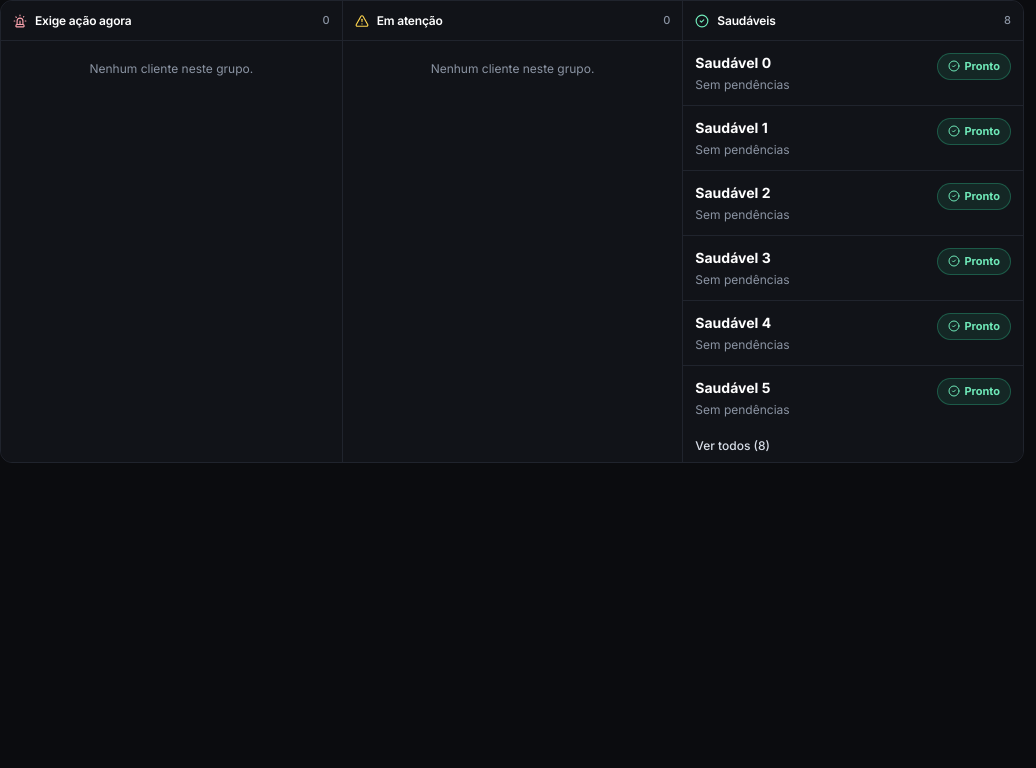
Test: ClientPriorityBoard › caps the healthy column and allows expanding to see every client
The width and height of the screenshot is (1036, 768).
Expected: the text "Saudável 7" is not shown
Click the button "Ver todos (8)": click(733, 446) [695,438,770,454]
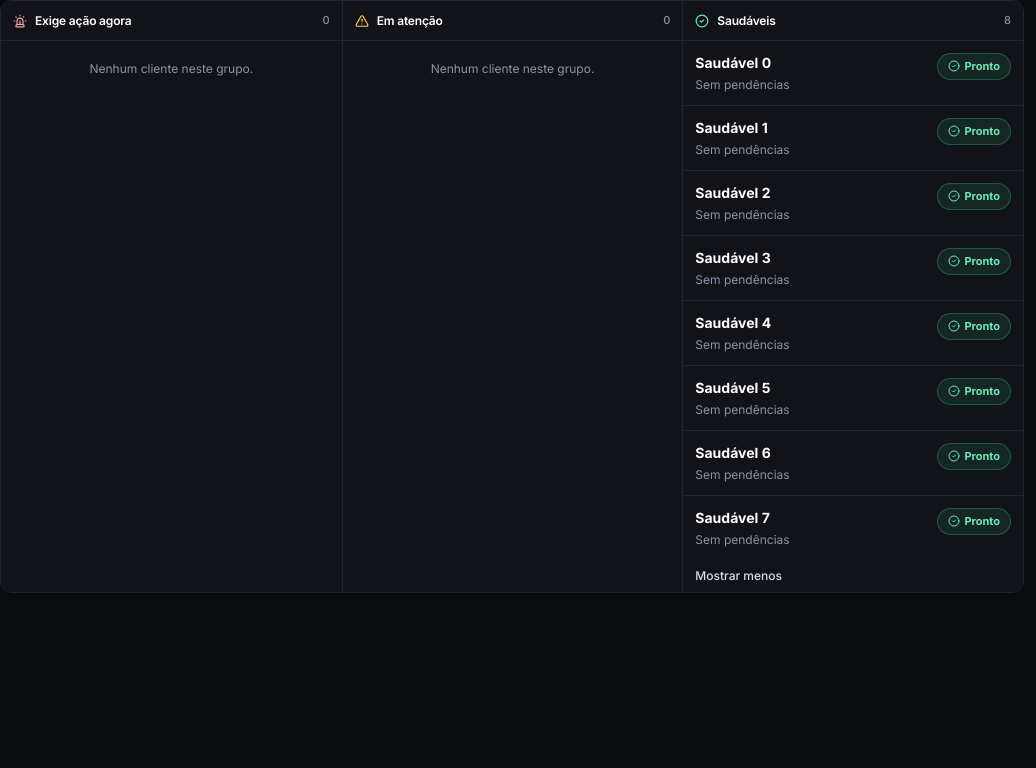
Expected: the text "Saudável 7" is shown, [695,509,770,526]
